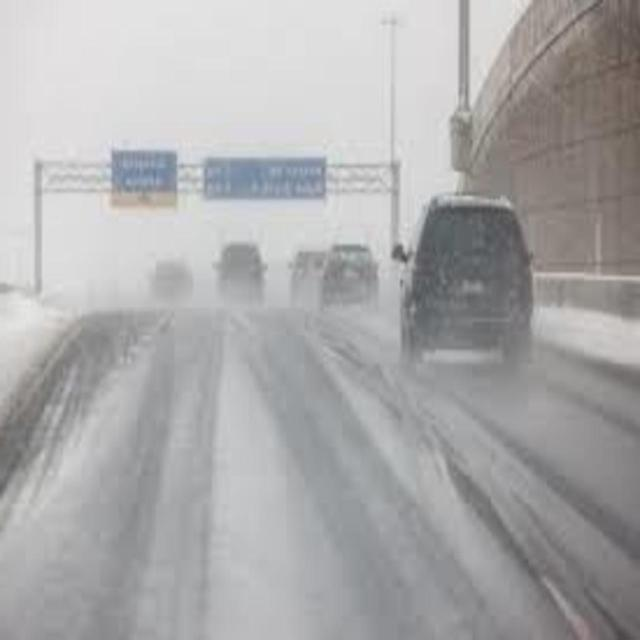Car: (388, 196, 534, 365), (314, 237, 386, 311), (213, 239, 270, 302)
